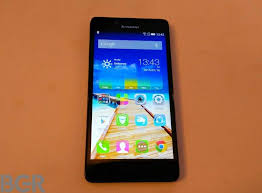lenovo: (78, 12, 183, 184)
